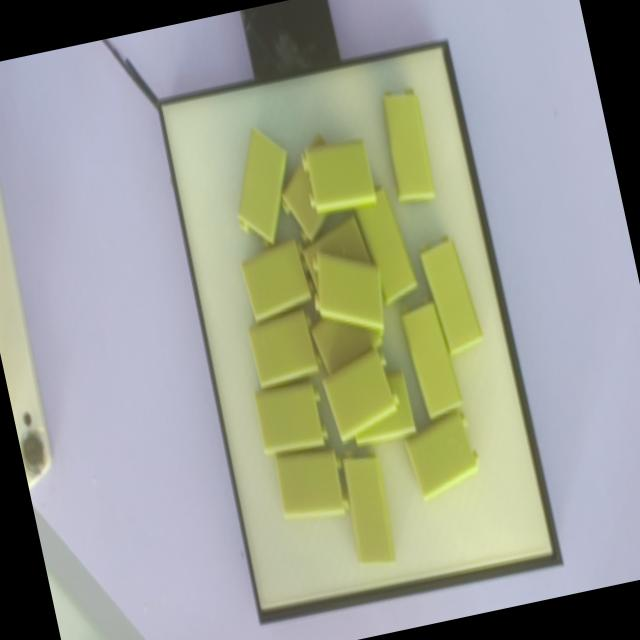bateria: (418, 233, 485, 357), (400, 294, 462, 421), (321, 345, 398, 443), (406, 409, 480, 501), (342, 447, 397, 565), (381, 87, 437, 201), (240, 238, 314, 323), (237, 125, 288, 248), (248, 308, 322, 387), (302, 138, 376, 214), (311, 251, 384, 328), (275, 447, 349, 520), (254, 381, 329, 453)
mesa: (155, 39, 563, 624)
